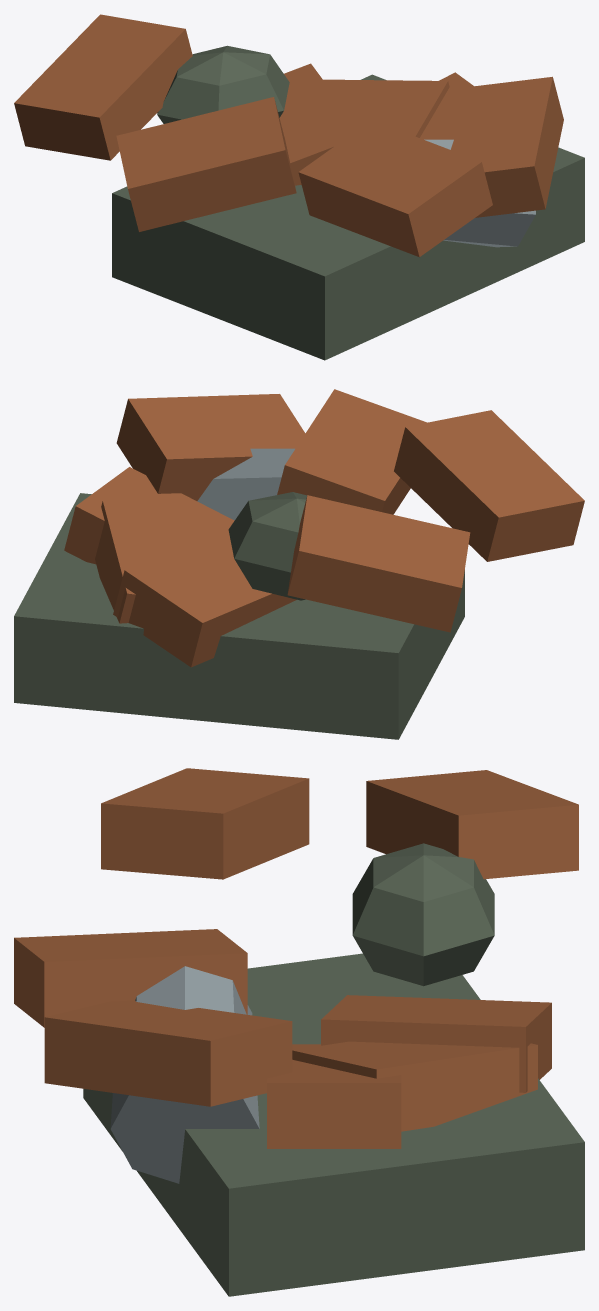
The model's file is scrap_pile_medium.glb.
The picture shows the model from 3 angles, top to bottom: view 1: azimuth 30°, elevation 25°; view 2: azimuth 150°, elevation 25°; view 3: azimuth 270°, elevation 25°; orthographic projection. The views are drawn at different scales.
Parts seen in each view (by area): view 1: salvage-pile_2, salvage-pile_0, salvage-pile_1, salvage-pile_3; view 2: salvage-pile_2, salvage-pile_0, salvage-pile_1, salvage-pile_3; view 3: salvage-pile_0, salvage-pile_2, salvage-pile_1, salvage-pile_3.
Part boxes in pixels (box(x1,y1,x2,y2)): salvage-pile_2: box(14, 14, 563, 257); salvage-pile_0: box(112, 45, 584, 360); salvage-pile_1: box(279, 63, 473, 185); salvage-pile_3: box(424, 139, 535, 247); salvage-pile_2: box(116, 389, 584, 632); salvage-pile_0: box(14, 492, 464, 739); salvage-pile_1: box(64, 467, 296, 667); salvage-pile_3: box(197, 448, 294, 520); salvage-pile_0: box(83, 843, 584, 1296); salvage-pile_2: box(14, 768, 578, 1106); salvage-pile_1: box(267, 995, 551, 1148); salvage-pile_3: box(110, 966, 259, 1183).
Bounding box in the file's own units: 2.35 × 1.06 × 1.91.
